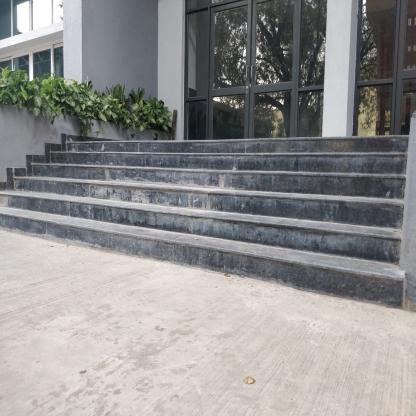stairs: (55, 145, 373, 264)
